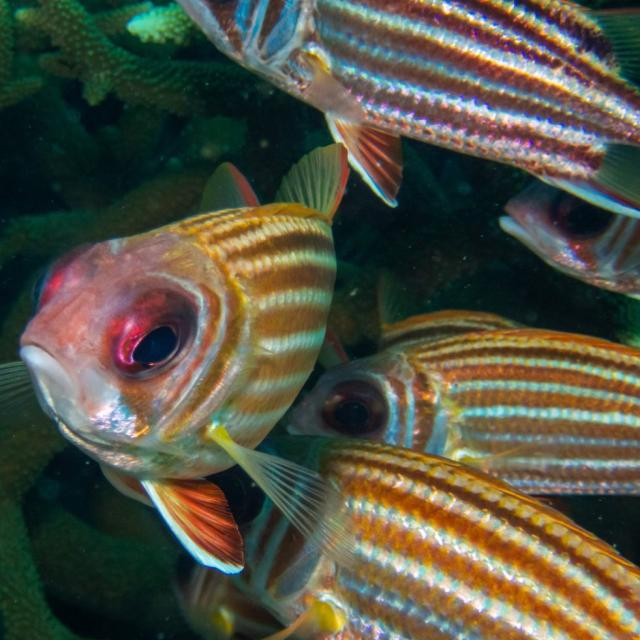Asker Baligi: (0, 126, 391, 581)
